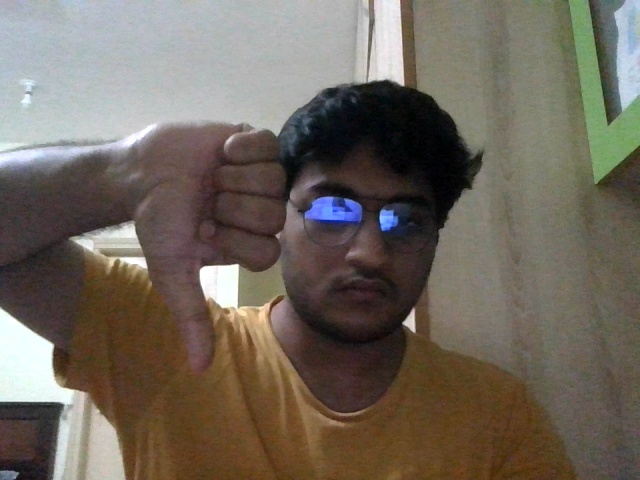thumbsdown: (130, 120, 286, 371)
